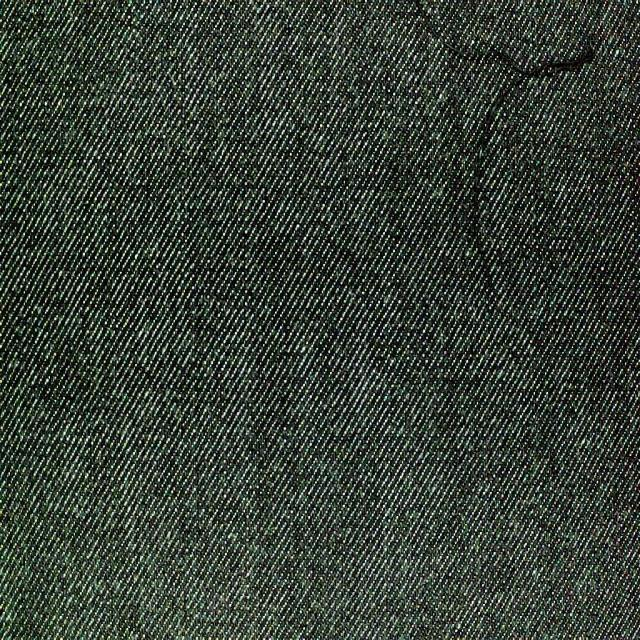defect: (461, 32, 605, 306)
